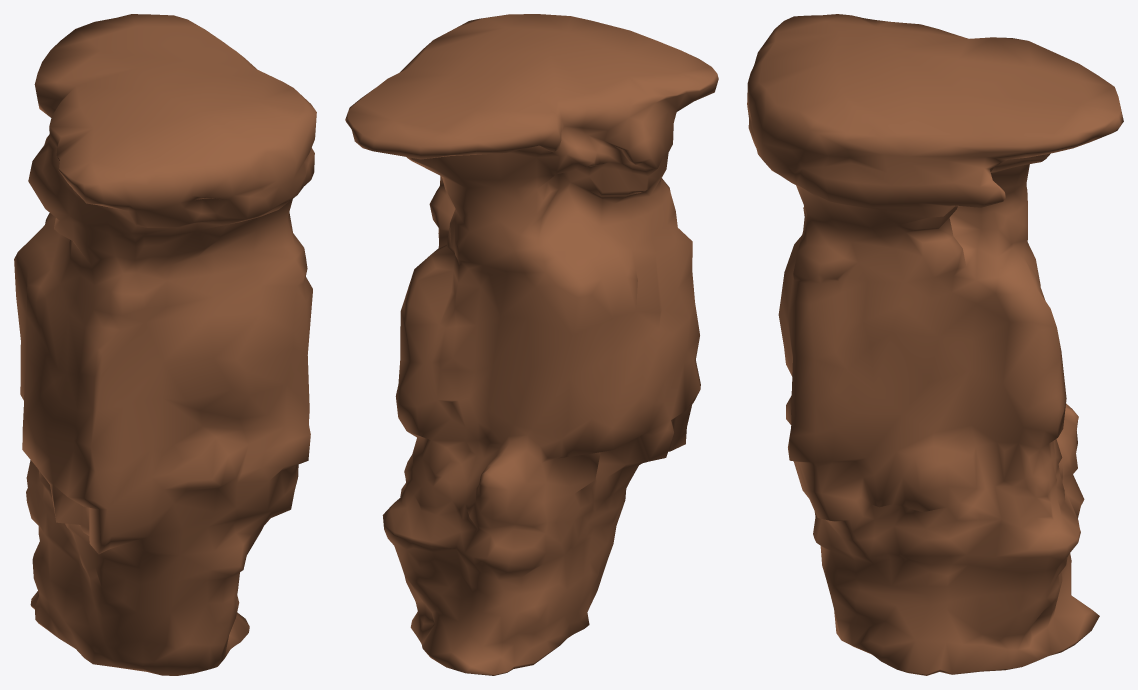
The model's file is MSH_Rocks_Cliff_22_a.FBX.
3 views of the same model, side by side, from view 1: azimuth 30°, elevation 25°; view 2: azimuth 150°, elevation 25°; view 3: azimuth 270°, elevation 25° (orthographic). The views are drawn at different scales.
Visible parts, largest first — view 1: MESH_LOD0; view 2: MESH_LOD0; view 3: MESH_LOD0.
Part boxes in pixels (left/top/right/bottom): MESH_LOD0: left=14, top=14, right=316, bottom=675; MESH_LOD0: left=345, top=14, right=718, bottom=675; MESH_LOD0: left=747, top=14, right=1123, bottom=675.
Size of what is drawn, in the model's own units: 194 by 402 by 232.
